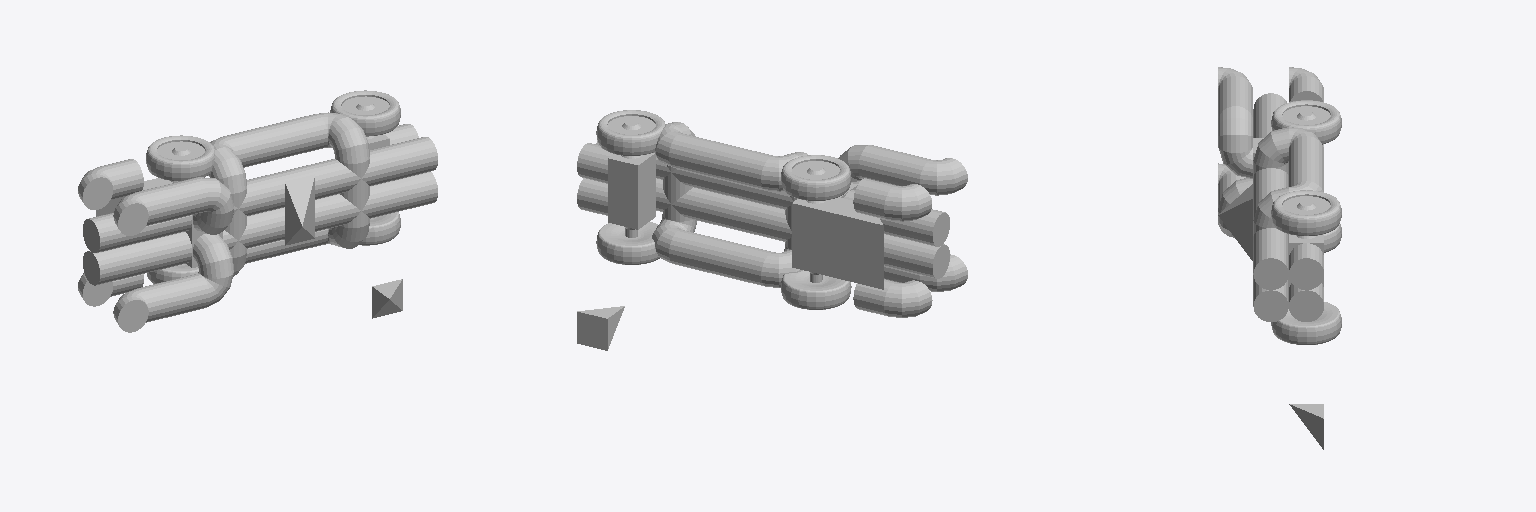
Rendered from testModel.obj.
3 renders of one model, left to right at view 1: azimuth 30°, elevation 25°; view 2: azimuth 150°, elevation 25°; view 3: azimuth 270°, elevation 25°, orthographic.
Visible parts, largest first — view 1: BlockHolder; view 2: BlockHolder; view 3: BlockHolder.
Part boxes in pixels (bbox=[...]): BlockHolder: bbox=[78, 90, 437, 332]; BlockHolder: bbox=[577, 110, 967, 350]; BlockHolder: bbox=[1218, 67, 1341, 449].
Size of the model in its own units: 11 by 7 by 3.5.